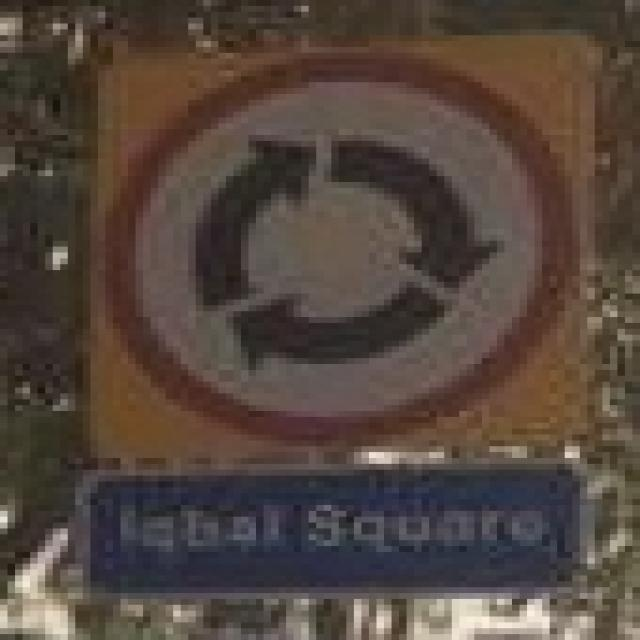roundabout: (100, 46, 591, 446)
